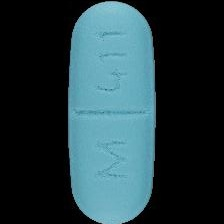51079-869: (0, 0, 224, 224)
